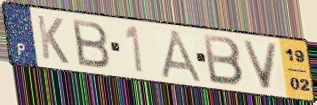1: (123, 25, 146, 76)
A: (158, 29, 207, 85)
B: (201, 32, 246, 88), (69, 17, 112, 70)
K: (35, 13, 71, 67)
V: (240, 38, 281, 92)
